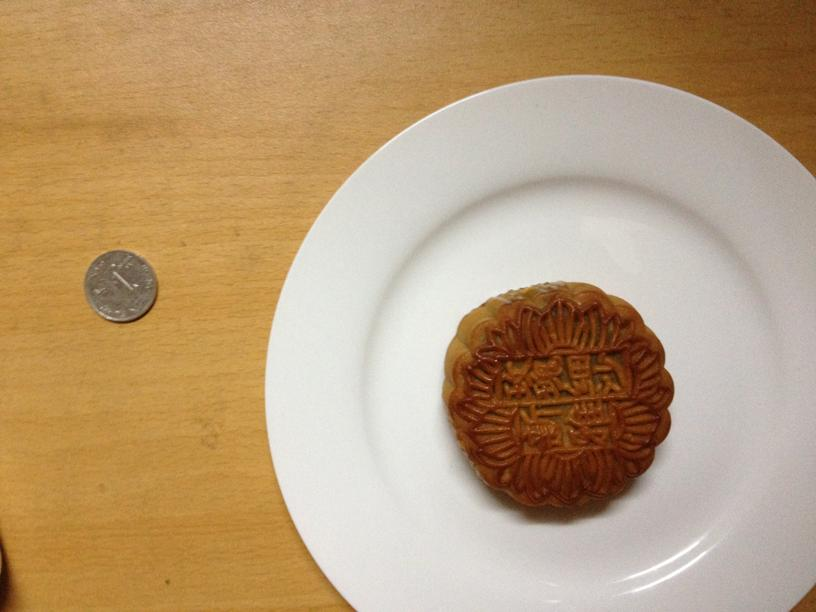coin: (82, 248, 158, 323)
mooncake: (444, 277, 676, 511)
